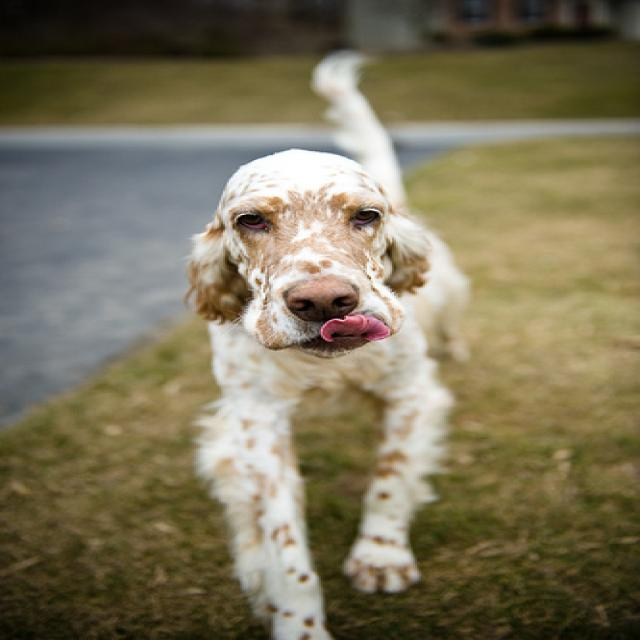dog-english_setter: (161, 45, 488, 637)
